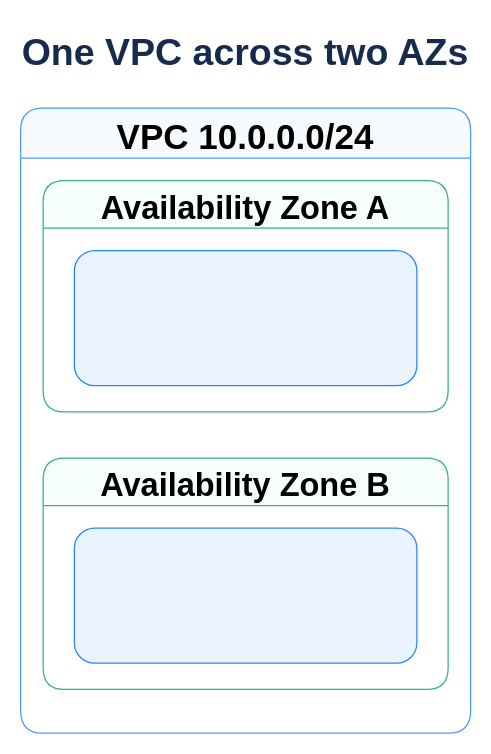
Some shapes in this 491 by 754 pixel diagram are drawn without their labels. Each missing label, with the centre of its shape:
10.0.0.0/26 64 IPv4 addresses 59 usable: point (245, 317)
10.0.0.64/26 64 IPv4 addresses 59 usable: point (245, 595)
